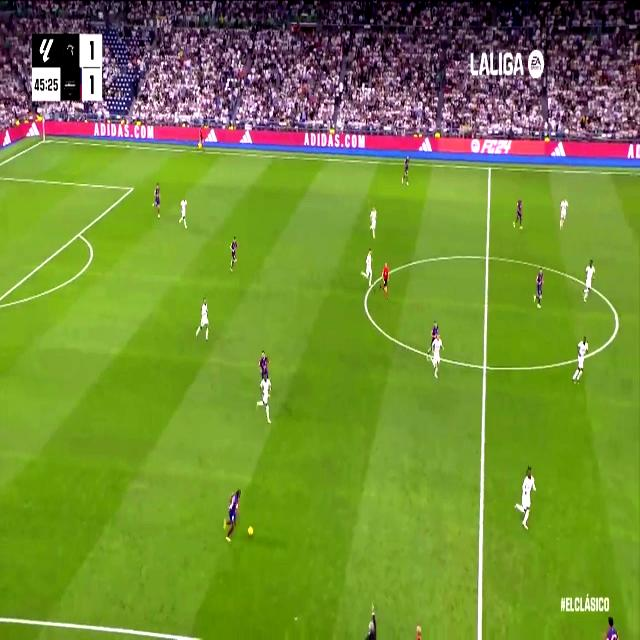bigarea_top_inner: (129, 182, 134, 195)
corner: (40, 133, 49, 144)
halfcircle_bottom: (479, 351, 491, 381)
halfcircle_top: (482, 244, 494, 270)
midline_top_intersection: (486, 160, 494, 176)
top_arc_area_intersection: (75, 225, 83, 241)
